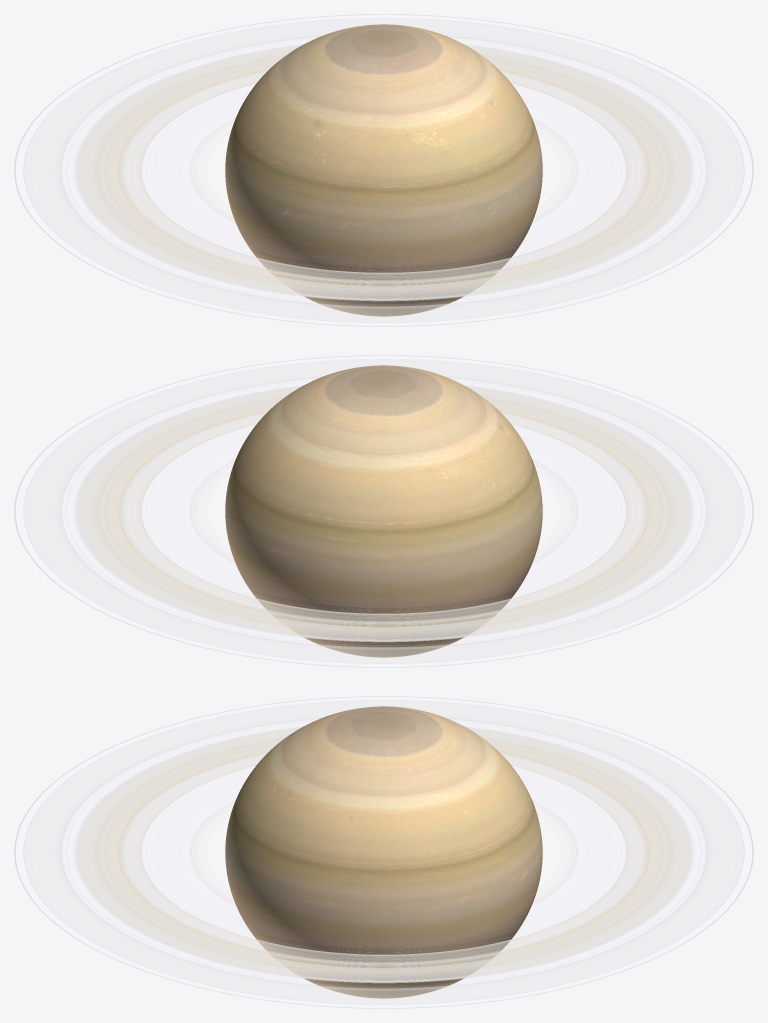
The model's file is saturn.glb.
3 views of the same model, one above another, from view 1: azimuth 30°, elevation 25°; view 2: azimuth 150°, elevation 25°; view 3: azimuth 270°, elevation 25° (orthographic).
Parts seen in each view (by area): view 1: saturn_rings, saturn_globe; view 2: saturn_rings, saturn_globe; view 3: saturn_rings, saturn_globe.
Part boxes in pixels (x1,y1,x2,y2): saturn_rings: (14,14,753,326); saturn_globe: (225,24,542,316); saturn_rings: (14,355,753,667); saturn_globe: (225,365,542,657); saturn_rings: (14,696,753,1008); saturn_globe: (225,706,542,998).
Size of the model in its own units: 4.66 by 1.8 by 4.66.
Materials: 2 (2 with a texture image).
